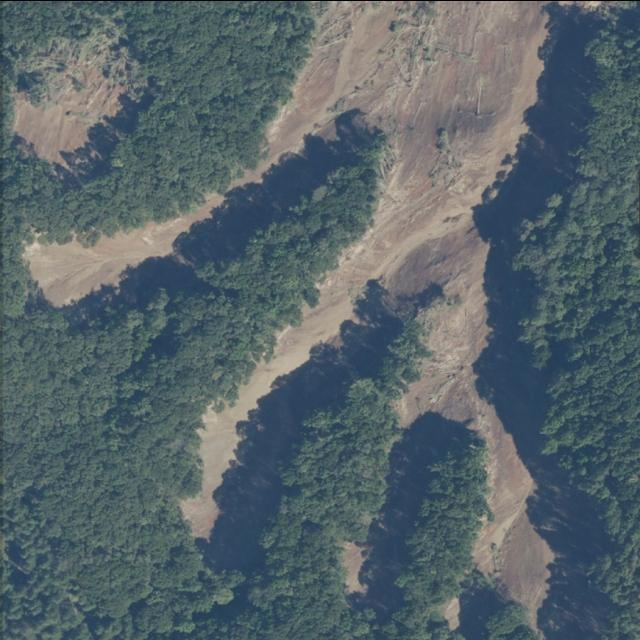landslide: (181, 0, 554, 629), (23, 192, 228, 306), (15, 50, 124, 161)
